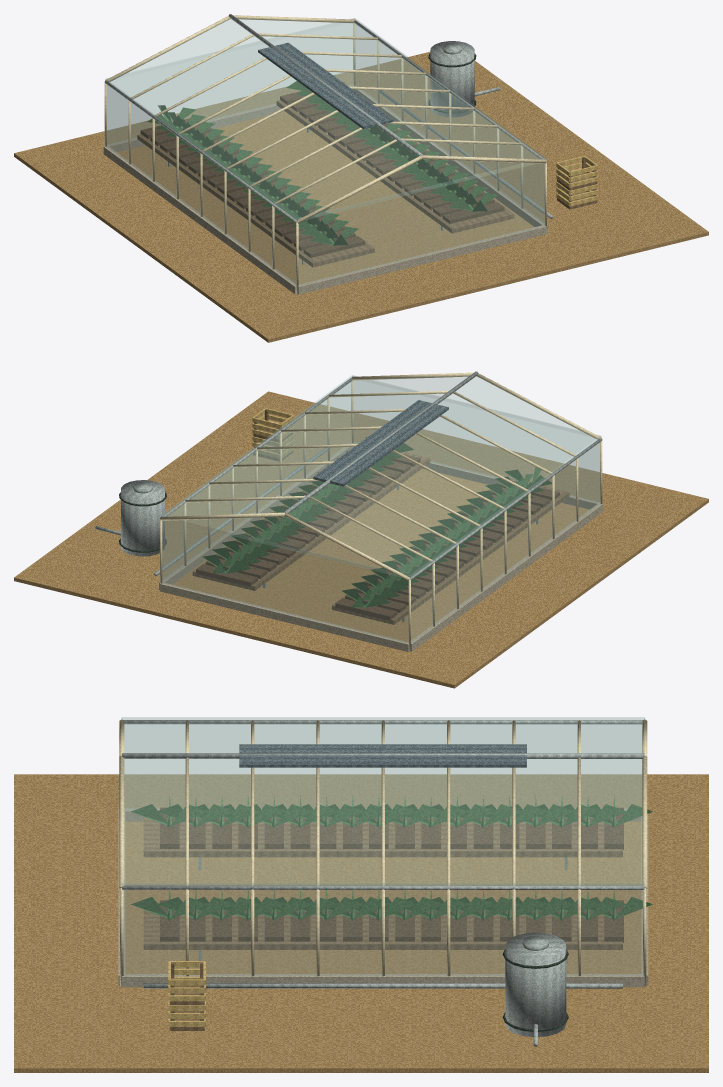
The model's file is 271-blender.glb.
The picture shows the model from 3 angles, top to bottom: view 1: azimuth 30°, elevation 25°; view 2: azimuth 150°, elevation 25°; view 3: azimuth 270°, elevation 25°; orthographic projection. The views are drawn at different scales.
Parts seen in each view (by area): view 1: ag_greenhouse earth, ag_greenhouse glass, ag_greenhouse cream, ag_greenhouse leaf, ag_greenhouse soil, ag_greenhouse concrete, ag_greenhouse metal, ag_greenhouse wood, ag_greenhouse roof, ag_greenhouse hay; view 2: ag_greenhouse earth, ag_greenhouse glass, ag_greenhouse cream, ag_greenhouse leaf, ag_greenhouse soil, ag_greenhouse concrete, ag_greenhouse metal, ag_greenhouse wood, ag_greenhouse roof, ag_greenhouse hay; view 3: ag_greenhouse earth, ag_greenhouse glass, ag_greenhouse leaf, ag_greenhouse soil, ag_greenhouse wood, ag_greenhouse metal, ag_greenhouse cream, ag_greenhouse roof, ag_greenhouse concrete, ag_greenhouse hay.
Part boxes in pixels (<box>): ag_greenhouse earth: <box>14,52,708,342</box>; ag_greenhouse glass: <box>105,18,546,285</box>; ag_greenhouse cream: <box>104,15,546,294</box>; ag_greenhouse leaf: <box>147,75,497,245</box>; ag_greenhouse soil: <box>140,91,504,257</box>; ag_greenhouse concrete: <box>103,85,547,294</box>; ag_greenhouse metal: <box>104,14,552,264</box>; ag_greenhouse wood: <box>137,100,597,267</box>; ag_greenhouse roof: <box>258,42,393,129</box>; ag_greenhouse hay: <box>556,156,598,206</box>; ag_greenhouse earth: <box>14,391,708,688</box>; ag_greenhouse glass: <box>161,375,601,642</box>; ag_greenhouse cream: <box>160,372,602,651</box>; ag_greenhouse leaf: <box>203,437,551,607</box>; ag_greenhouse soil: <box>196,454,559,620</box>; ag_greenhouse concrete: <box>159,442,603,651</box>; ag_greenhouse metal: <box>95,371,602,621</box>; ag_greenhouse wood: <box>192,409,569,624</box>; ag_greenhouse roof: <box>313,400,448,486</box>; ag_greenhouse hay: <box>252,408,294,458</box>; ag_greenhouse earth: <box>14,774,708,1072</box>; ag_greenhouse glass: <box>121,717,644,975</box>; ag_greenhouse leaf: <box>131,795,652,920</box>; ag_greenhouse soil: <box>160,807,623,942</box>; ag_greenhouse wood: <box>143,810,622,1030</box>; ag_greenhouse metal: <box>122,720,644,1046</box>; ag_greenhouse cream: <box>119,719,647,986</box>; ag_greenhouse roof: <box>239,744,526,767</box>; ag_greenhouse concrete: <box>118,808,648,987</box>; ag_greenhouse hay: <box>168,961,205,1026</box>.
Size of what is drawn, in the model's own units: 15.95 by 3.9 by 15.95.
Materials: 11 (10 with a texture image).
